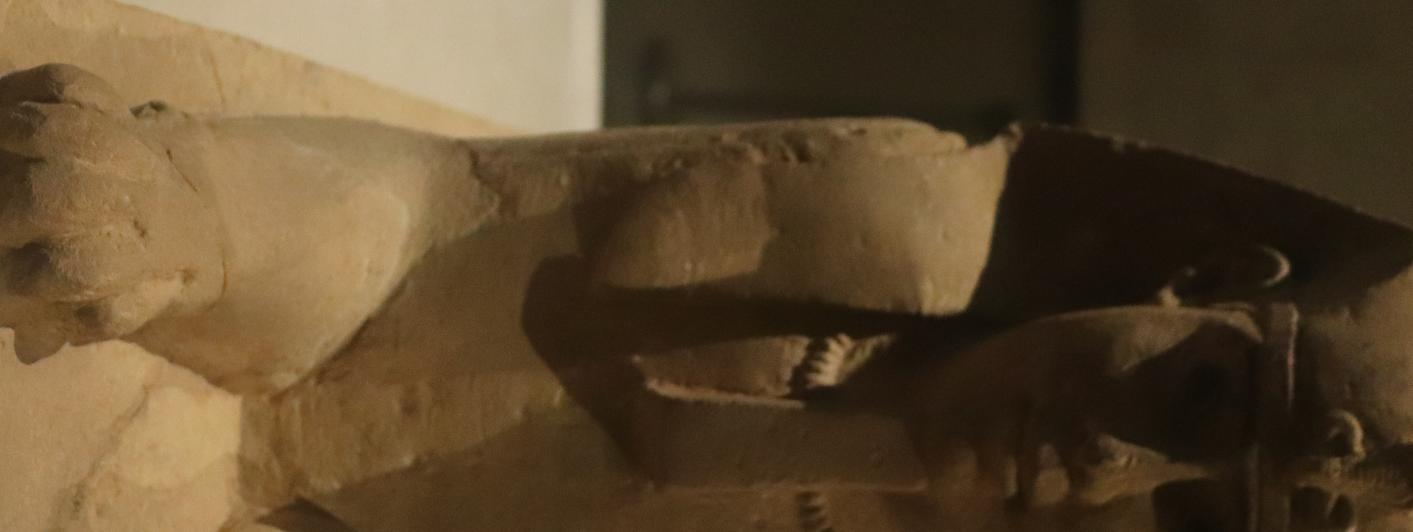statue_ofthe_sphinx: (0, 0, 648, 532)
